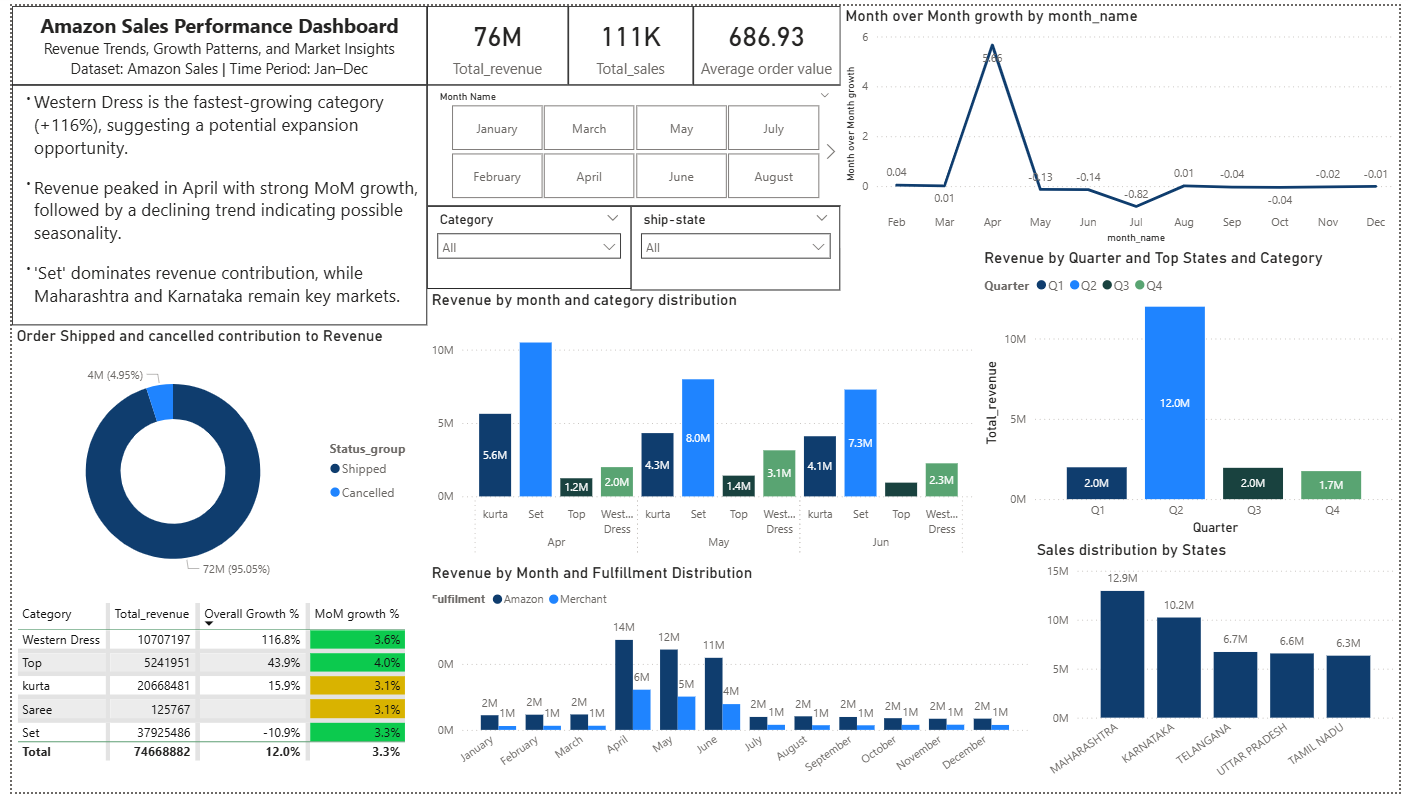

The page's visual inventory and layout, read from the dashboard file:
{"tool":"powerbi","page":{"name":"Page 1","canvas":[1500,850],"ordinal":0},"visuals":[{"type":"columnChart","title":"Sales distribution by States","fields":{"Category":["Amazon Sale Report.ship-state"],"Y":["basic_measure.Total_revenue"]},"box":[1102.9,576.5,397.1,273.5],"z":0},{"type":"card","fields":{"Values":["basic_measure.Total_revenue"]},"box":[448.5,0,152.9,85.3],"z":1000},{"type":"card","fields":{"Values":["basic_measure.Total_sales"]},"box":[601.5,0,135.3,85.3],"z":2000},{"type":"slicer","fields":{"Values":["Amazon Sale Report.Month Name"]},"box":[448.5,85.3,448.5,130.9],"z":3000},{"type":"clusteredColumnChart","title":"Revenue by Month and Fulfillment Distribution","fields":{"Category":["Amazon Sale Report.Month Name","Amazon Sale Report.Fulfilment","Amazon Sale Report.Status"],"Series":["Amazon Sale Report.Fulfilment"],"Y":["basic_measure.Total_revenue"]},"box":[448.5,602.9,654.4,247.1],"z":4000},{"type":"tableEx","title":"Revenue by Product Category","fields":{"Values":["Amazon Sale Report.Category","basic_measure.Total_revenue","basic_measure.Category Growth %","basic_measure.Growth %"]},"box":[0,641.2,458.8,208.8],"z":5000},{"type":"columnChart","title":"Revenue by Quarter and Top States and Category","fields":{"Category":["Amazon Sale Report.Quarter","Amazon Sale Report.ship-state","Amazon Sale Report.Category"],"Y":["basic_measure.Total_revenue"],"Series":["Amazon Sale Report.Quarter"]},"box":[1045.6,261.8,454.4,314.7],"z":6000},{"type":"columnChart","title":"Revenue by month and category distribution","fields":{"Category":["Date Table.month_name","Amazon Sale Report.Category"],"Y":["basic_measure.Total_revenue"],"Series":["Amazon Sale Report.Category"]},"box":[448.5,307.4,597.1,295.6],"z":7000},{"type":"donutChart","title":"Order Shipped and cancelled contribution to Revenue","fields":{"Category":["Amazon Sale Report.Status_group","Amazon Sale Report.Status"],"Y":["basic_measure.Total_revenue"]},"box":[0,345.6,448.5,295.6],"z":8000},{"type":"slicer","fields":{"Values":["Amazon Sale Report.ship-state"]},"box":[669.1,216.2,226.5,91.2],"z":9000},{"type":"slicer","fields":{"Values":["Amazon Sale Report.Category"]},"box":[448.5,216.2,220.6,89.7],"z":10000},{"type":"card","fields":{"Values":["basic_measure.Average order value"]},"box":[736.8,0,158.8,85.3],"z":11000},{"type":"lineChart","fields":{"Category":["Date Table.month_name","Date Table.month"],"Y":["basic_measure.Month over Month growth"]},"box":[895.6,0,604.4,261.8],"z":12000},{"type":"textbox","box":[0,85.3,448.5,260.3],"z":13000},{"type":"textbox","box":[0,0,448.5,85.3],"z":13001}]}

Visuals, with their boxes in screenshot pixels (x1, y1, x2, y2), scaled from the page's 1500x850 canvas onto the 1408x801 screenshot:
"Sales distribution by States" columnChart: select_region(1035, 543, 1407, 800)
card - basic_measure.Total_revenue: select_region(421, 0, 565, 80)
card - basic_measure.Total_sales: select_region(565, 0, 692, 80)
slicer - Amazon Sale Report.Month Name: select_region(421, 80, 842, 204)
"Revenue by Month and Fulfillment Distribution" clusteredColumnChart: select_region(421, 568, 1035, 800)
"Revenue by Product Category" tableEx: select_region(0, 604, 431, 800)
"Revenue by Quarter and Top States and Category" columnChart: select_region(981, 247, 1407, 543)
"Revenue by month and category distribution" columnChart: select_region(421, 290, 981, 568)
"Order Shipped and cancelled contribution to Revenue" donutChart: select_region(0, 326, 421, 604)
slicer - Amazon Sale Report.ship-state: select_region(628, 204, 841, 290)
slicer - Amazon Sale Report.Category: select_region(421, 204, 628, 288)
card - basic_measure.Average order value: select_region(692, 0, 841, 80)
lineChart - Date Table.month_name x Date Table.month: select_region(841, 0, 1407, 247)
textbox: select_region(0, 80, 421, 326)
textbox: select_region(0, 0, 421, 80)
